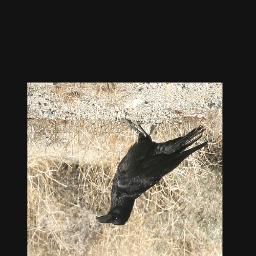Crow: (95, 119, 208, 226)
